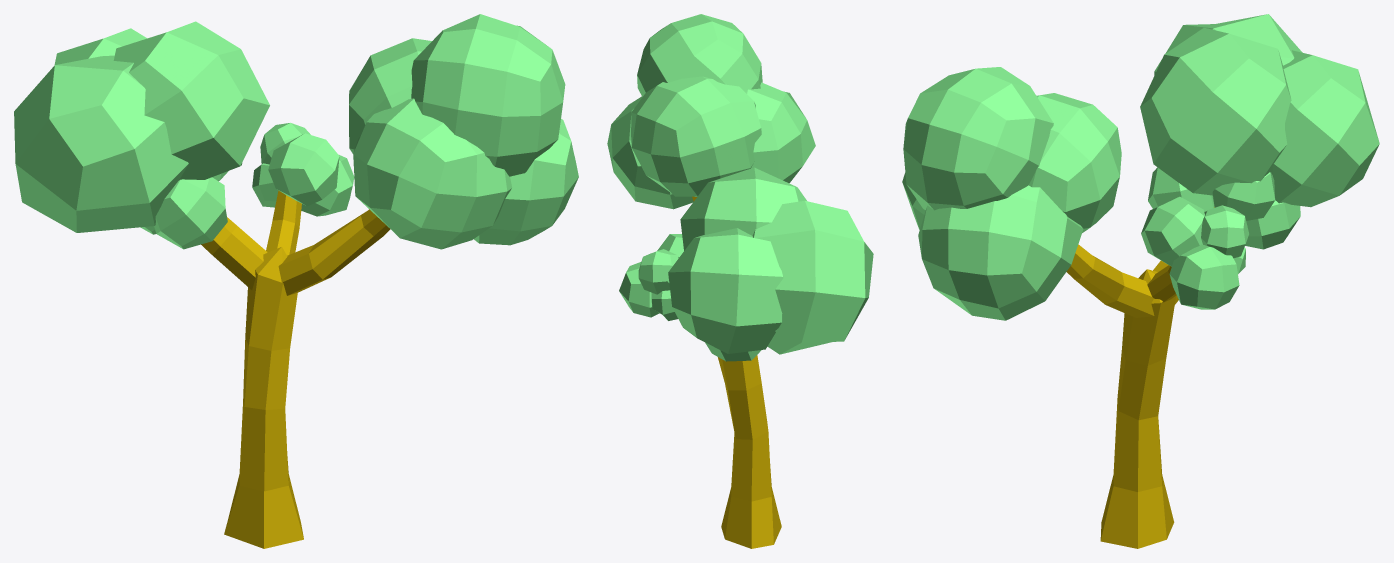
Rendered from Tree_type_3.fbx.
3 views of the same model, side by side, from view 1: azimuth 30°, elevation 25°; view 2: azimuth 150°, elevation 25°; view 3: azimuth 270°, elevation 25° (orthographic). The views are drawn at different scales.
Parts seen in each view (by area): view 1: pPlatonic37, pPlatonic48, pPlatonic47, pPlatonic43, pCylinder59, pPlatonic38, pPlatonic49, pCylinder61, pPlatonic45, pPlatonic41, pCylinder60, pCylinder62 (+4 smaller); view 2: pPlatonic37, pPlatonic49, pPlatonic36, pCylinder59, pPlatonic48, pPlatonic43, pPlatonic47, pPlatonic38, pPlatonic39, pPlatonic50, pPlatonic46, pPlatonic44 (+1 smaller); view 3: pPlatonic43, pPlatonic48, pPlatonic38, pCylinder59, pPlatonic36, pPlatonic49, pPlatonic50, pCylinder61, pPlatonic41, pPlatonic37, pPlatonic39, pPlatonic42 (+3 smaller).
Boxes of the visible parts, x1=… form: pPlatonic37: x1=14, y1=55, x2=188, y2=232; pPlatonic48: x1=411, y1=14, x2=565, y2=176; pPlatonic47: x1=353, y1=98, x2=512, y2=249; pPlatonic43: x1=113, y1=21, x2=269, y2=179; pCylinder59: x1=224, y1=247, x2=303, y2=548; pPlatonic38: x1=474, y1=118, x2=578, y2=245; pPlatonic49: x1=349, y1=38, x2=431, y2=153; pCylinder61: x1=278, y1=209, x2=390, y2=295; pPlatonic45: x1=154, y1=177, x2=227, y2=249; pPlatonic41: x1=268, y1=133, x2=339, y2=206; pCylinder60: x1=201, y1=217, x2=267, y2=289; pCylinder62: x1=266, y1=190, x2=301, y2=255; pPlatonic37: x1=752, y1=200, x2=873, y2=354; pPlatonic49: x1=631, y1=76, x2=761, y2=196; pPlatonic36: x1=668, y1=228, x2=783, y2=353; pCylinder59: x1=718, y1=355, x2=781, y2=548; pPlatonic48: x1=637, y1=14, x2=762, y2=96; pPlatonic43: x1=680, y1=167, x2=806, y2=250; pPlatonic47: x1=746, y1=82, x2=815, y2=183; pPlatonic38: x1=607, y1=96, x2=693, y2=209; pPlatonic39: x1=638, y1=249, x2=678, y2=294; pPlatonic50: x1=619, y1=262, x2=659, y2=317; pPlatonic46: x1=651, y1=290, x2=678, y2=320; pPlatonic44: x1=705, y1=342, x2=761, y2=361; pPlatonic43: x1=1140, y1=27, x2=1291, y2=195; pPlatonic48: x1=903, y1=67, x2=1053, y2=210; pPlatonic38: x1=918, y1=185, x2=1083, y2=320; pCylinder59: x1=1100, y1=269, x2=1175, y2=548; pPlatonic36: x1=1272, y1=50, x2=1379, y2=207; pPlatonic49: x1=1029, y1=93, x2=1121, y2=232; pPlatonic50: x1=1169, y1=244, x2=1239, y2=309; pCylinder61: x1=1066, y1=244, x2=1154, y2=317; pPlatonic41: x1=1141, y1=196, x2=1204, y2=266; pPlatonic37: x1=1154, y1=14, x2=1302, y2=75; pPlatonic39: x1=1201, y1=205, x2=1248, y2=258; pPlatonic42: x1=1212, y1=172, x2=1275, y2=220.
Bounding box in the file's own units: 48.18 × 57.06 × 47.02.
